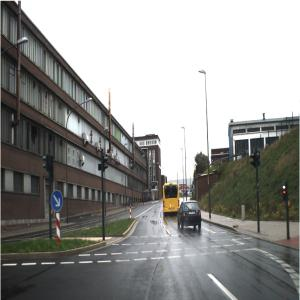keep right: (51, 191, 64, 213)
